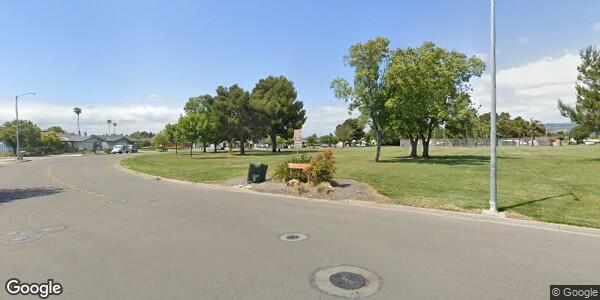Steel_Pole: (479, 1, 512, 226), (13, 89, 42, 160)
